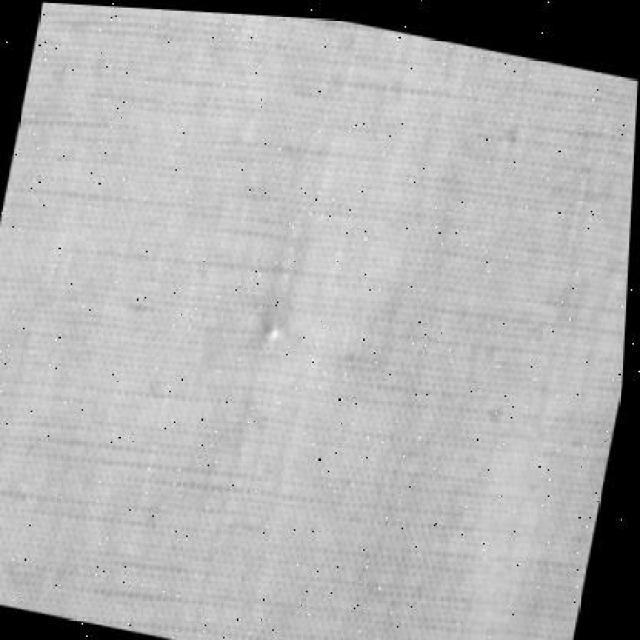seam: (163, 252, 366, 432)
